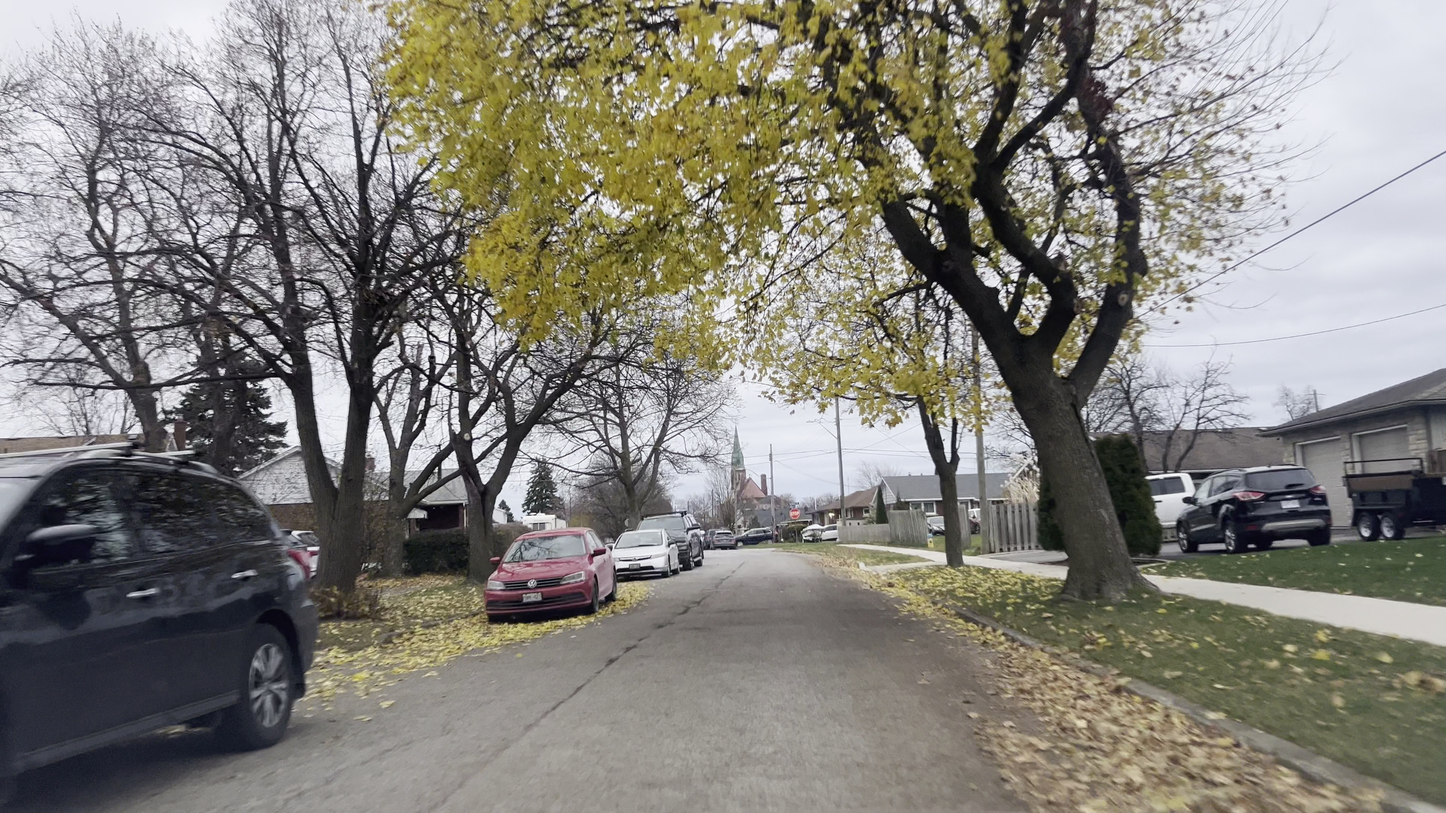cracks: (566, 646, 630, 703), (653, 589, 710, 634)
